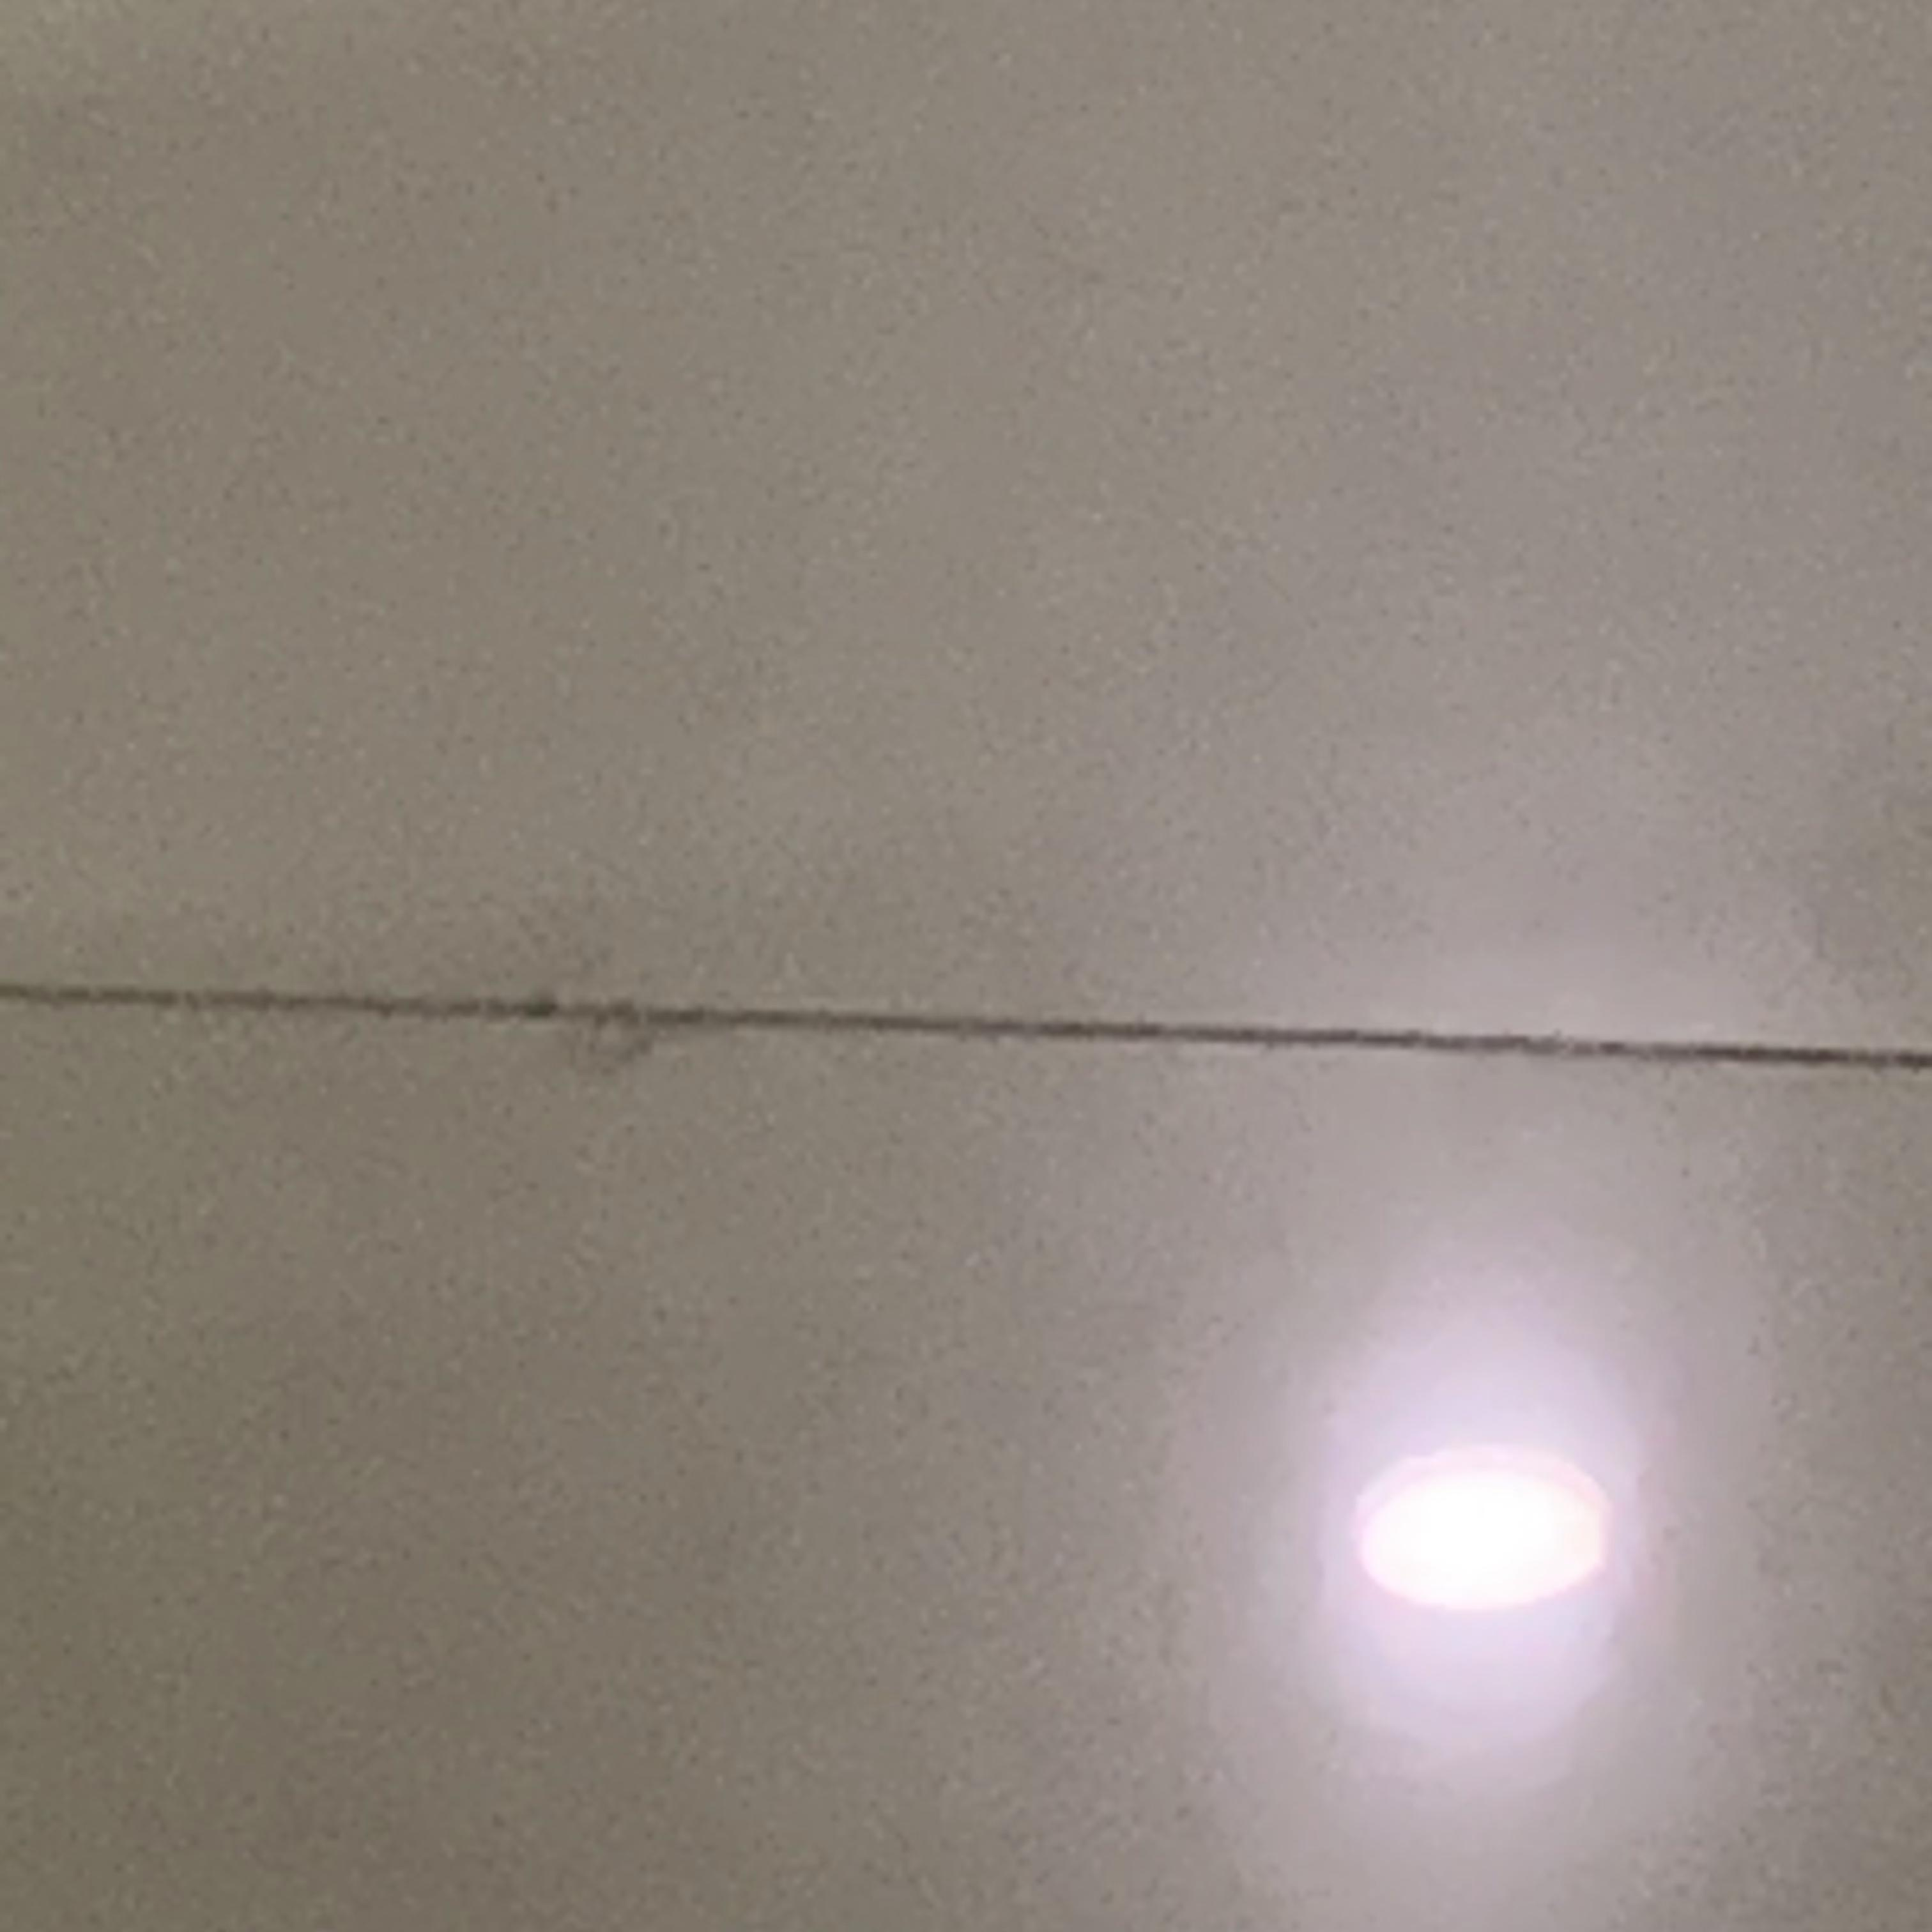reflection: (1348, 1445, 1606, 1619)
